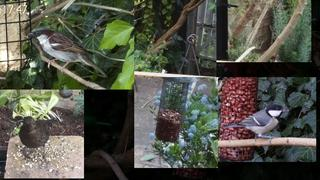blackbird: (18, 116, 57, 165)
great tit: (222, 104, 290, 145)
sparrow: (27, 27, 108, 77)
